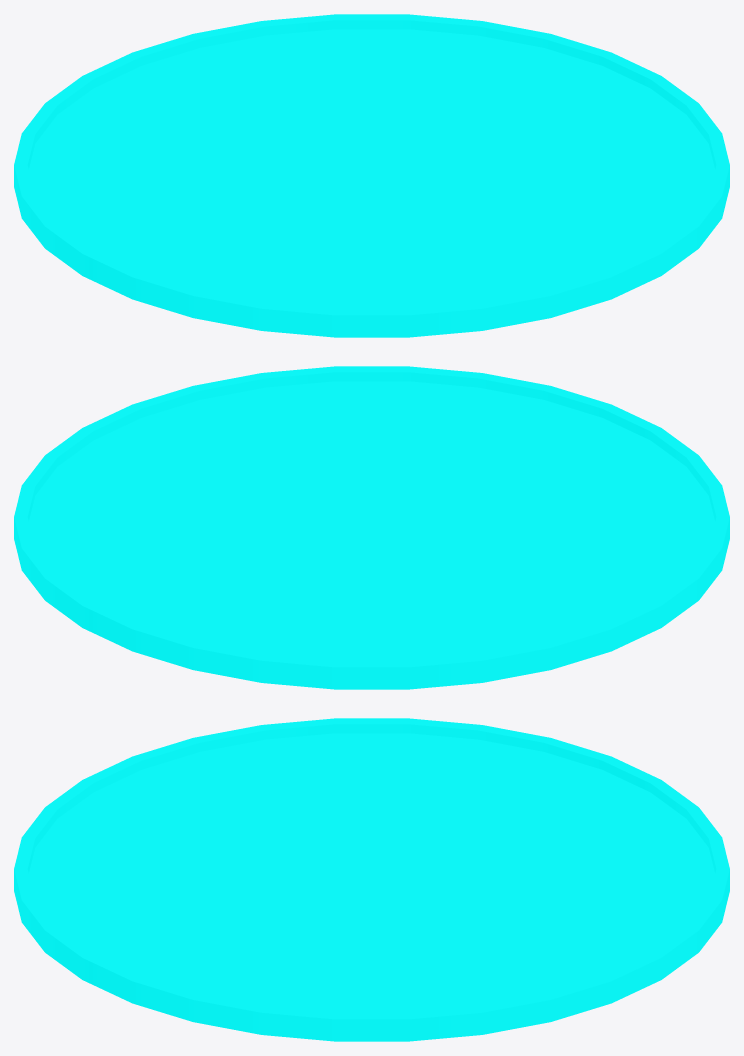
File: SFI0510017.fbx
The picture shows the model from 3 angles, top to bottom: view 1: azimuth 30°, elevation 25°; view 2: azimuth 150°, elevation 25°; view 3: azimuth 270°, elevation 25°; orthographic projection.
Parts seen in each view (by area): view 1: smSFI0510017; view 2: smSFI0510017; view 3: smSFI0510017.
Part boxes in pixels (bbox=[...]): smSFI0510017: bbox=[14, 14, 729, 337]; smSFI0510017: bbox=[14, 366, 729, 689]; smSFI0510017: bbox=[14, 718, 729, 1041].
Bounding box in the file's own units: 199 × 6.83 × 200.
